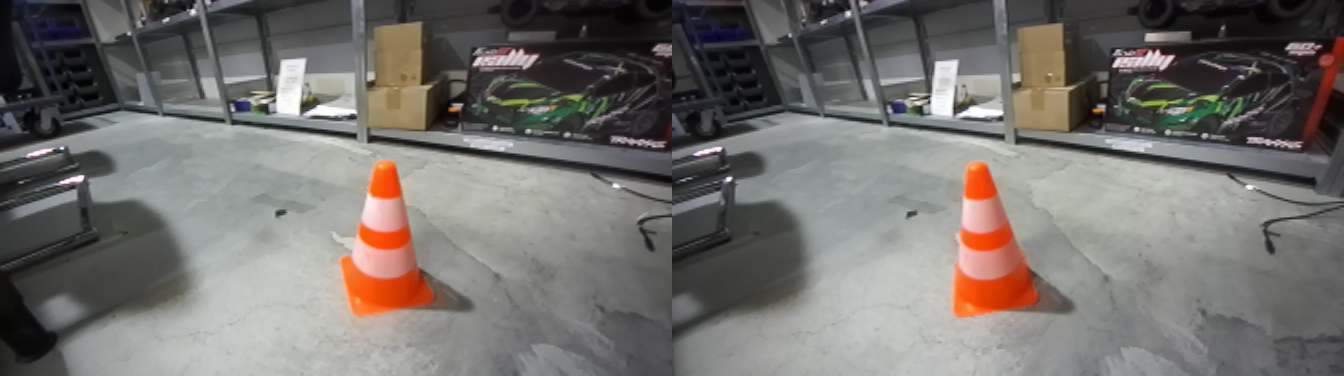cone: (338, 157, 445, 324), (956, 166, 1047, 328)
